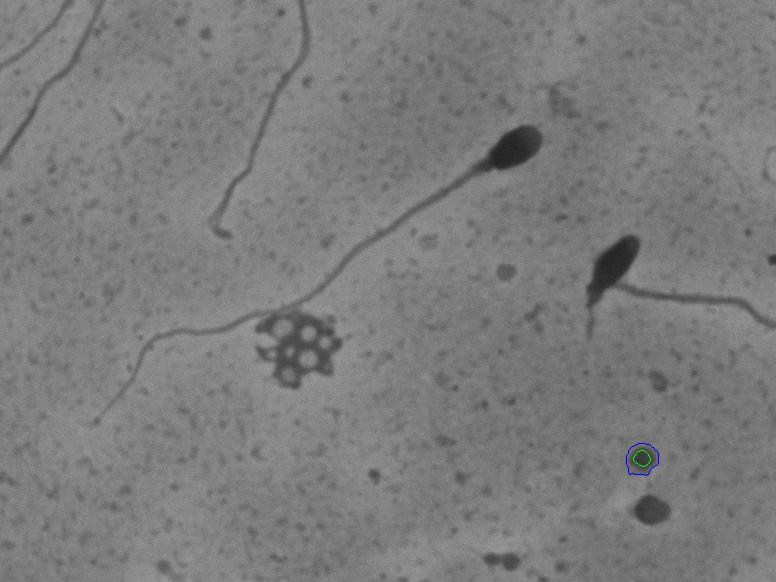Abnormal: (569, 203, 761, 368)
Normal: (70, 114, 552, 442)
